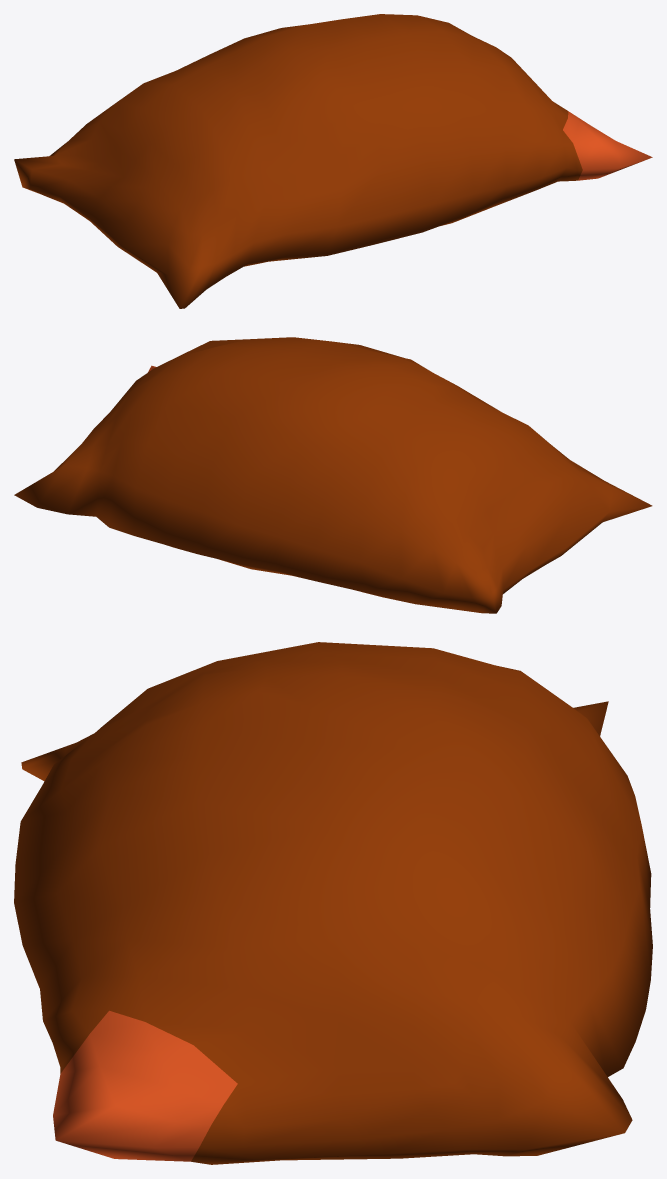
Rendered from item_06.glb.
3 views of the same model, one above another, from view 1: azimuth 30°, elevation 25°; view 2: azimuth 150°, elevation 25°; view 3: azimuth 270°, elevation 25° (orthographic). The views are drawn at different scales.
Parts seen in each view (by area): view 1: Item6; view 2: Item6; view 3: Item6.
Part boxes in pixels (x1,y1,x2,y2): Item6: (14, 14, 652, 308); Item6: (14, 337, 652, 613); Item6: (14, 642, 652, 1164).
Size of what is drawn, in the model's own units: 0.5765 by 0.168 by 0.3619.
1 material, 1 textured.
